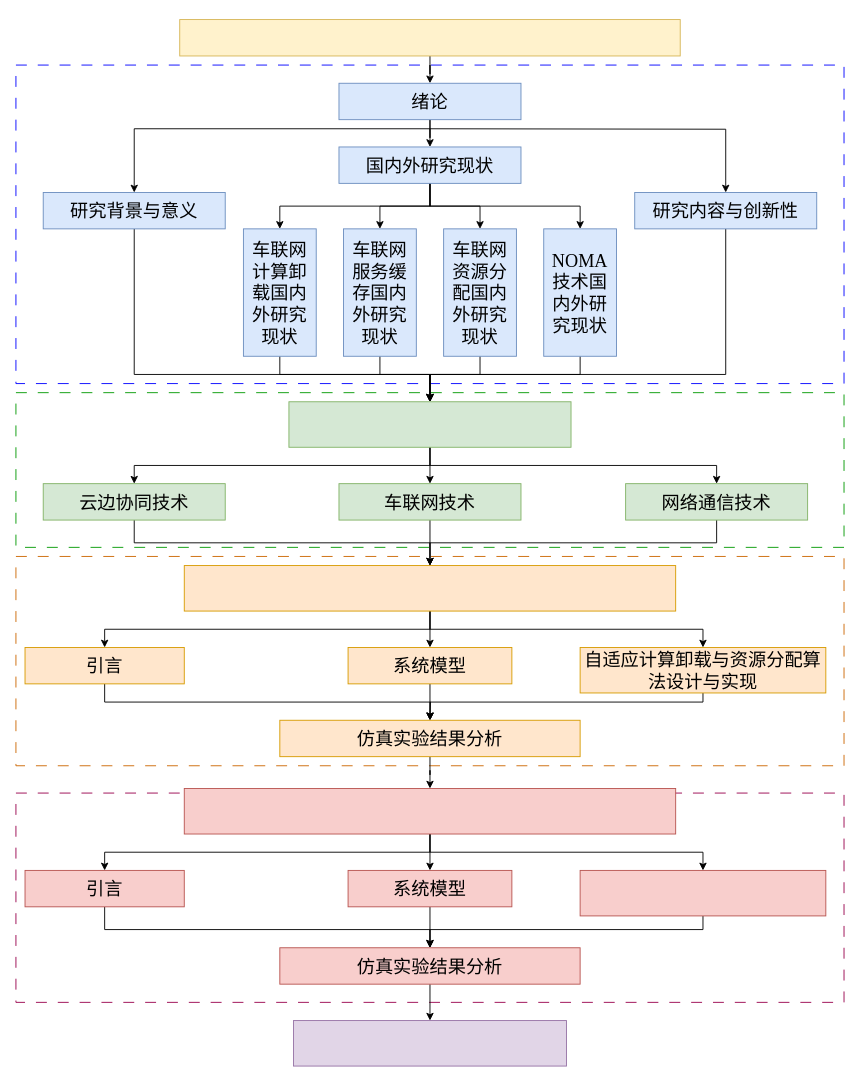
The diagram is 860 pixels wide and 1082 high, and some of its shapes have lost their labels. The shapes that lost their labels are listed below. From the top down, each one's centre as x and y in pixels, then its label:
At [429,37]: "基于云边协同车联网的多维度协同计算卸载优化方法研究".
At [429,424]: "云边协同车联网 相关理论和技术".
At [429,588]: "基于 云边协同车联网的自适应计算卸载与资源分配策略".
At [429,811]: "基于 NOMA 云边协同车联网的联合缓存与部分计算卸载策略".
At [702,893]: "联合缓存与部分计算卸载 算法设计与实现".
At [429,1043]: "总结与展望".
